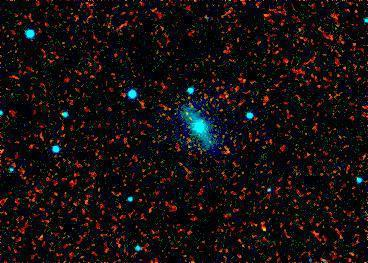star: (249, 214, 279, 244)
